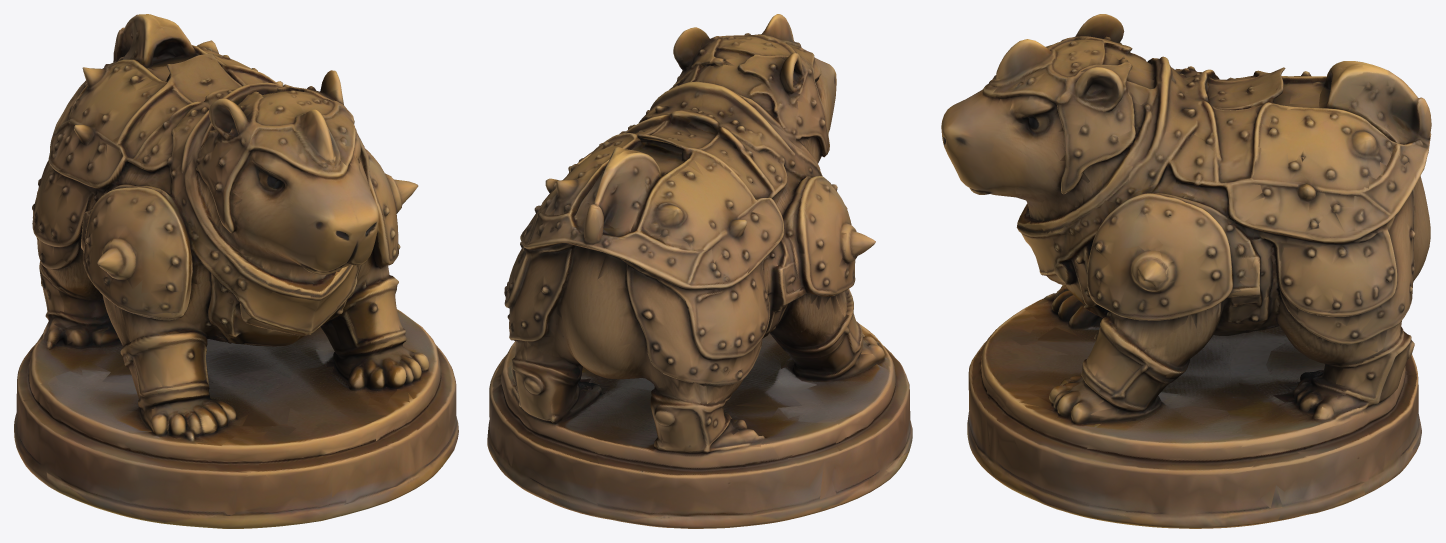
File: jugger_t.fbx
3 renders of one model, left to right at view 1: azimuth 30°, elevation 25°; view 2: azimuth 150°, elevation 25°; view 3: azimuth 270°, elevation 25°, orthographic. The views are drawn at different scales.
Parts seen in each view (by area): view 1: Mesh_0; view 2: Mesh_0; view 3: Mesh_0.
Part boxes in pixels (x1,y1,x2,y2): Mesh_0: (14,14,458,528); Mesh_0: (487,14,912,528); Mesh_0: (941,14,1431,528).
Size of the model in its own units: 187 by 178 by 200.
1 material, 1 textured.
